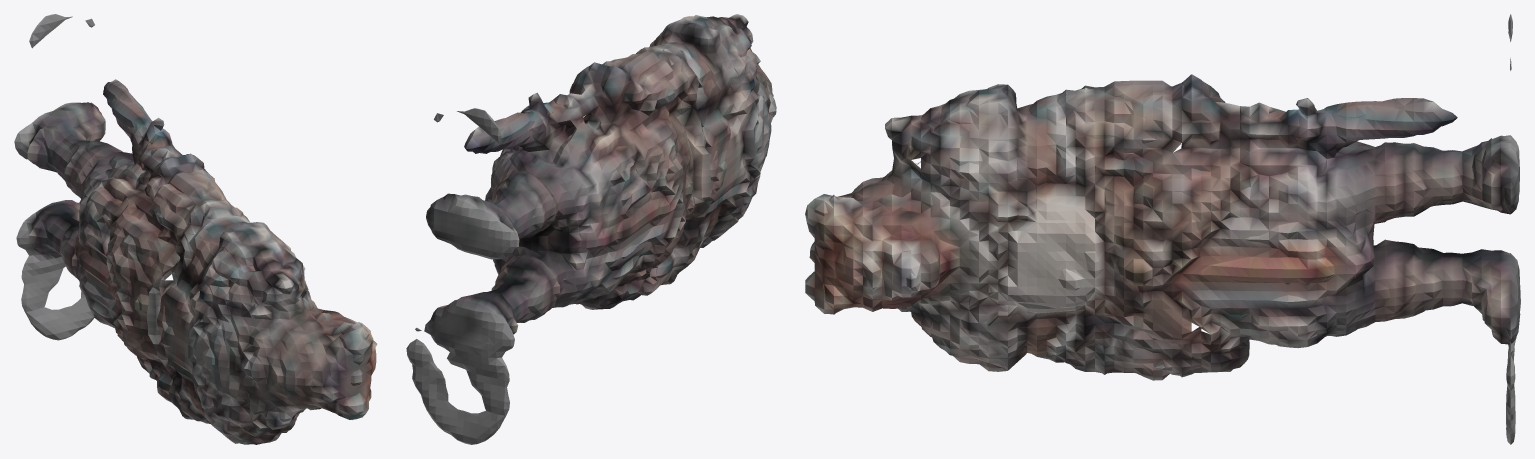
File: prehist_warrior_m_0.glb
3 views of the same model, side by side, from view 1: azimuth 30°, elevation 25°; view 2: azimuth 150°, elevation 25°; view 3: azimuth 270°, elevation 25° (orthographic). The views are drawn at different scales.
Visible parts, largest first — view 1: world; view 2: world; view 3: world.
Boxes of the visible parts, left/top/right/bottom form: world: left=14, top=14, right=377, bottom=444; world: left=406, top=14, right=776, bottom=444; world: left=805, top=14, right=1520, bottom=444.
Size of the model in its own units: 0.3079 by 0.6492 by 1.01.
